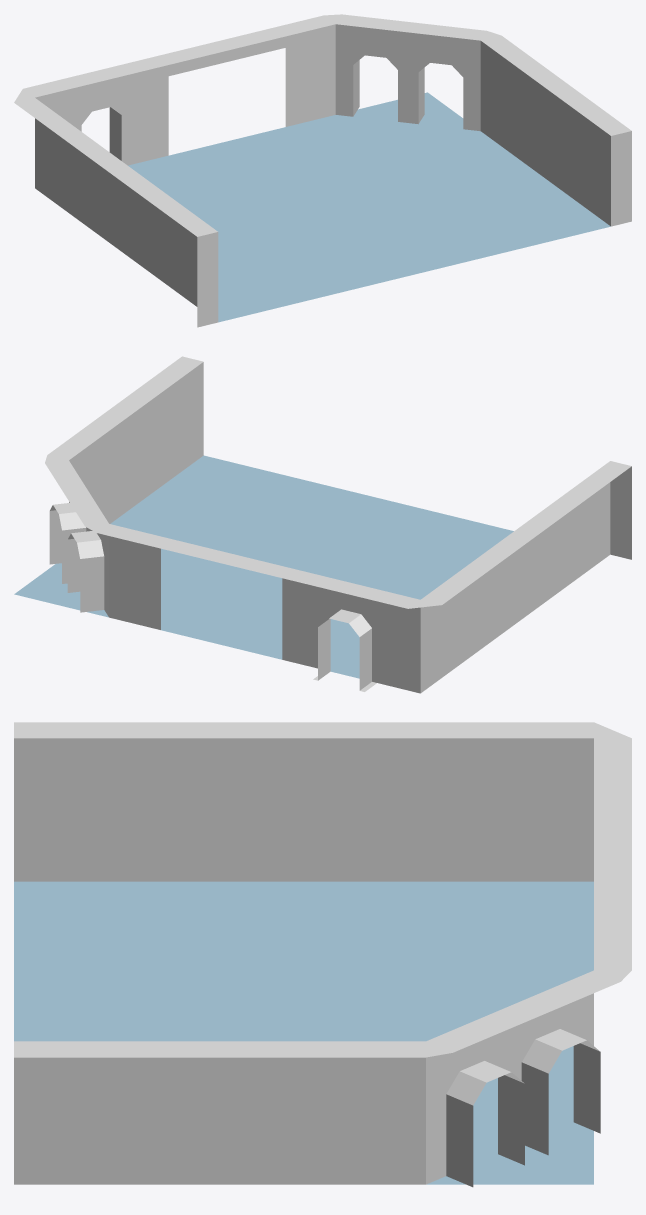
File: Wall.fbx
3 renders of one model, top to bottom at view 1: azimuth 30°, elevation 25°; view 2: azimuth 150°, elevation 25°; view 3: azimuth 270°, elevation 25°, orthographic. The views are drawn at different scales.
Visible parts, largest first — view 1: Plane, Wall1, Wall2, Wall4, Wall3; view 2: Plane, Wall1, Wall2, Wall4, Wall3; view 3: Plane, Wall1, Wall4, Wall3, Wall2.
Part boxes in pixels (left/top/right/bottom): Plane: left=128, top=92, right=610, bottom=321; Wall1: left=14, top=89, right=218, bottom=327; Wall2: left=23, top=15, right=335, bottom=165; Wall4: left=480, top=35, right=631, bottom=226; Wall3: left=324, top=14, right=500, bottom=131; Plane: left=14, top=455, right=513, bottom=678; Wall1: left=408, top=461, right=631, bottom=692; Wall2: left=97, top=524, right=420, bottom=693; Wall4: left=48, top=356, right=203, bottom=523; Wall3: left=45, top=455, right=108, bottom=616; Plane: left=14, top=881, right=593, bottom=1184; Wall1: left=14, top=722, right=631, bottom=881; Wall4: left=14, top=1041, right=425, bottom=1184; Wall3: left=426, top=970, right=631, bottom=1187; Wall2: left=594, top=738, right=631, bottom=970.
Bounding box in the file's own units: 433 × 86.32 × 337.
